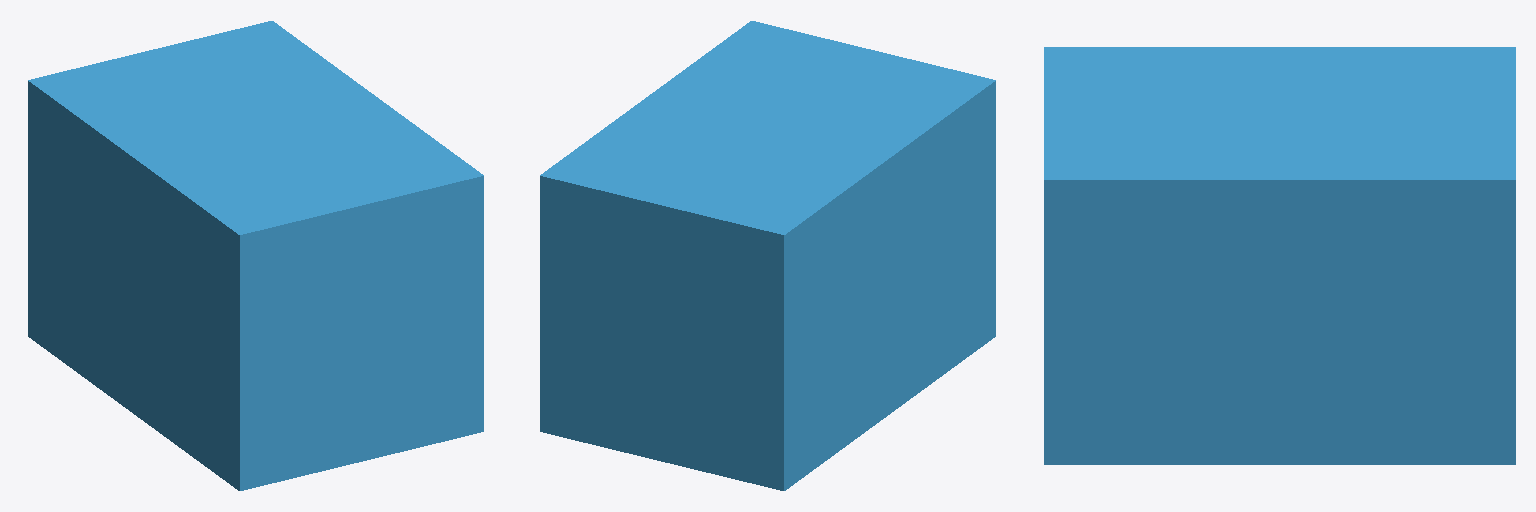
The robot description file, URDF, robot "simple_box":
<robot name="simple_box" >
    <link name="world"/>
  <joint name="world_to_table=" type="fixed">
        <parent link="world" />
        <child link="my_box" />
  </joint>
    <link name="my_box" >
        <inertial>
            <origin xyz="0.0 0.0 0.1" rpy="0.0 0.0 0.0"/>
            <mass value="0.1"/>
            <inertia ixx="0.0010833333333333333" ixy="0.0" ixz="0.0" iyy="0.0006666666666666668" iyz="0.0" izz="0.0010833333333333333"/>
        </inertial>
        <visual>
            <origin xyz = "0 0 0" />
            <geometry>
                <box size="0.2 0.3 0.2"/>
            </geometry>
        </visual>
        <collision>
            <origin xyz = "0 0 0.1" />
            <geometry>
                <box size="0.2 0.3 0.2"/>
            </geometry>
        </collision>
    </link>

    <gazebo reference="my_box" >
        <material>Gazebo/Black</material>
    </gazebo>

</robot>

--- Render facts (derived) ---
3 views of the same robot in one strip: view 1: azimuth 30°, elevation 25°; view 2: azimuth 150°, elevation 25°; view 3: azimuth 270°, elevation 25° (orthographic).
Model simple_box with 2 links and 1 joints (1 fixed), rooted at world, posed every joint at zero.
Visible links, largest first — view 1: my_box; view 2: my_box; view 3: my_box.
Link boxes in pixels (<box>): my_box: <box>28,21,483,490</box>; my_box: <box>540,21,995,490</box>; my_box: <box>1044,47,1515,464</box>.
Bounding box of the posed robot: 0.2 × 0.3 × 0.2 m (x, y, z).
Geometry: primitives only (box / cylinder / sphere), no mesh files.
